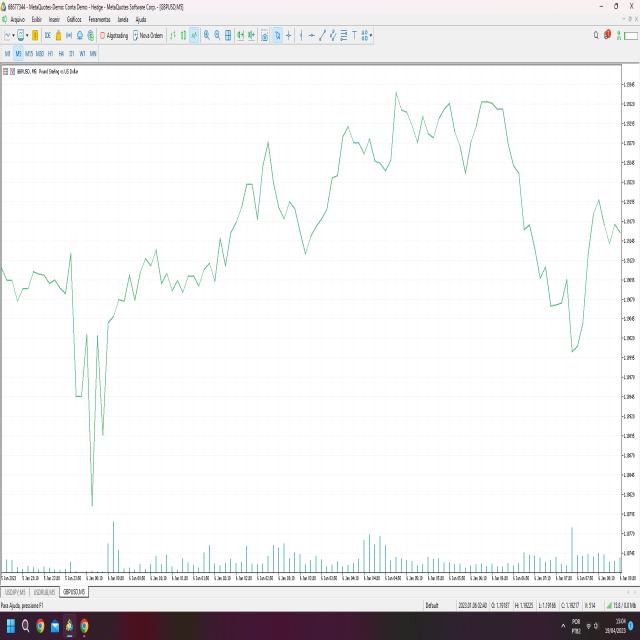oco: (224, 121, 310, 296)
oco_inv: (59, 313, 125, 520)
